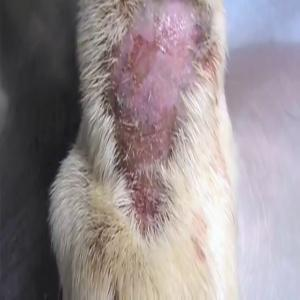skin_lesions: (99, 0, 212, 225)
